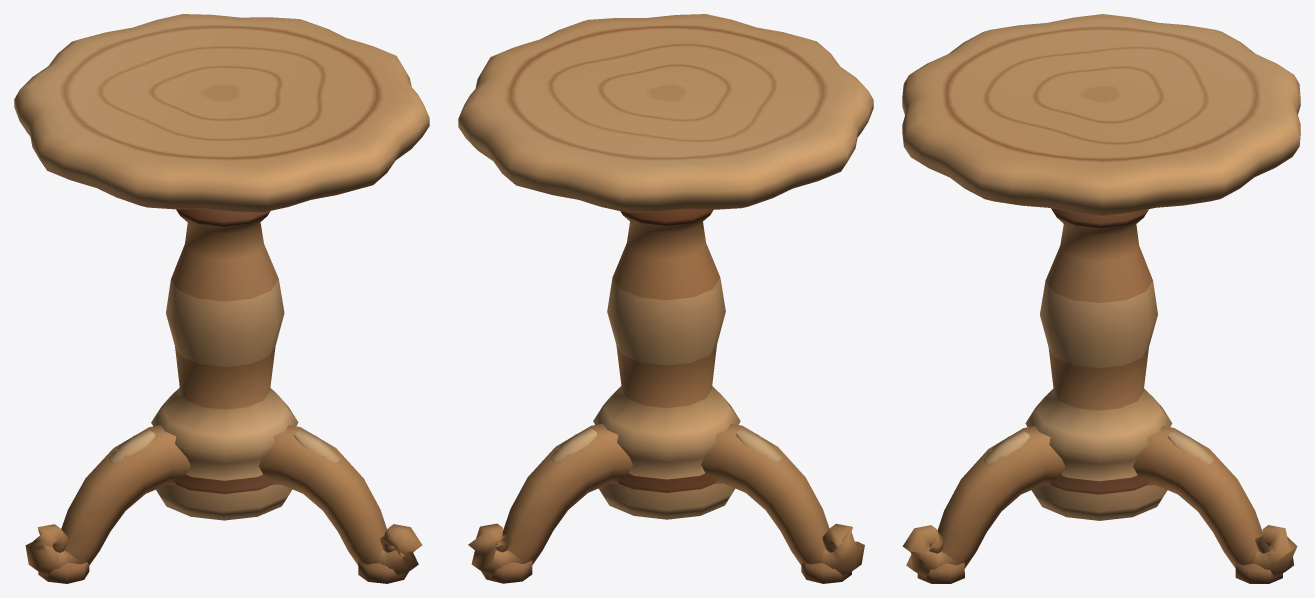
Rendered from furn-sideTable.glb.
The picture shows the model from 3 angles, left to right: view 1: azimuth 30°, elevation 25°; view 2: azimuth 150°, elevation 25°; view 3: azimuth 270°, elevation 25°; orthographic projection.
Visible parts, largest first — view 1: body; view 2: body; view 3: body.
Boxes of the visible parts, x1,y1,x2,y2 form: body: [14, 14, 429, 583]; body: [458, 14, 873, 583]; body: [902, 14, 1300, 583].
Bounding box in the file's own units: 0.4806 × 0.55 × 0.4447.
